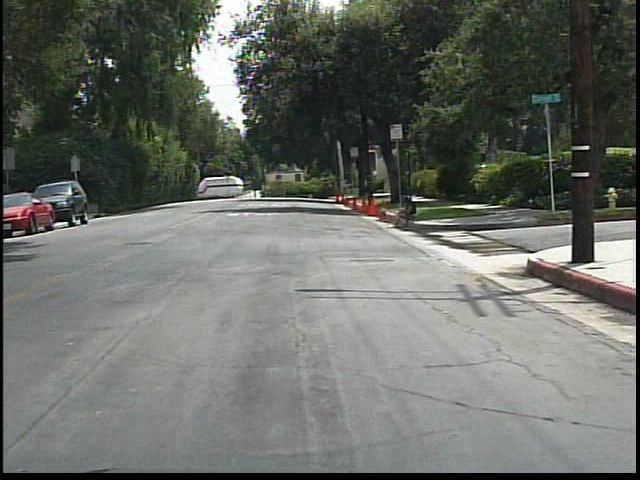person: (389, 191, 422, 235)
